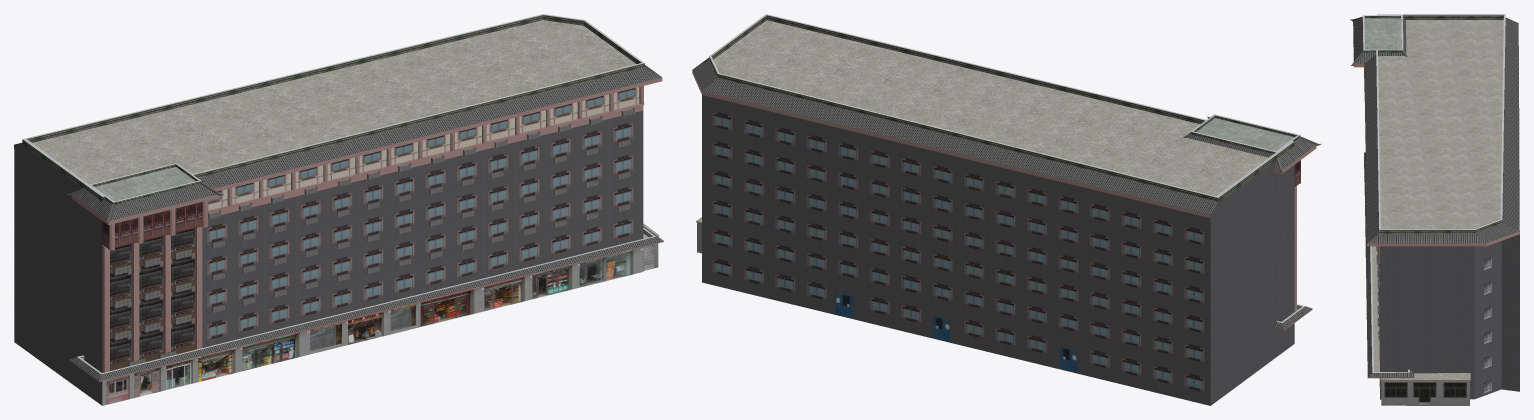
3 views of the same model, side by side, from view 1: azimuth 30°, elevation 25°; view 2: azimuth 150°, elevation 25°; view 3: azimuth 270°, elevation 25° (orthographic). The views are drawn at different scales.
Parts seen in each view (by area): view 1: jz17; view 2: jz17; view 3: jz17.
Part boxes in pixels (bbox=[...]): jz17: bbox=[14, 14, 663, 405]; jz17: bbox=[692, 14, 1321, 405]; jz17: bbox=[1350, 14, 1519, 405].
Size of the model in its own units: 5936 by 2071 by 1875.
36 materials, 36 textured.
